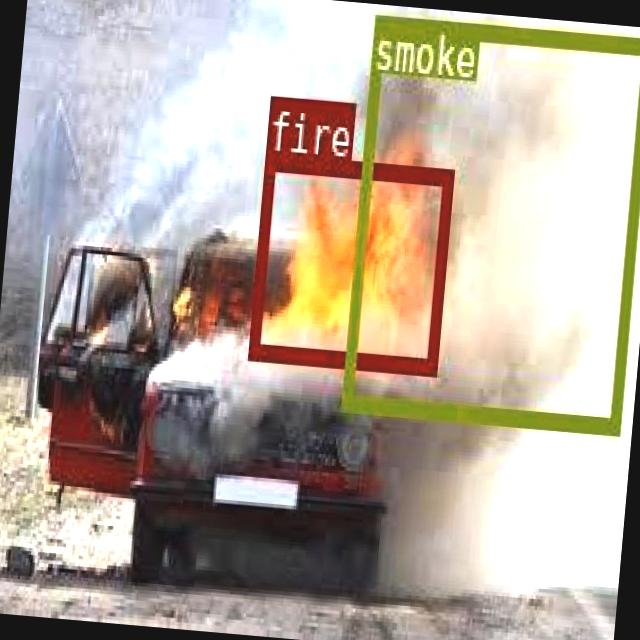fire: (248, 150, 452, 371)
smoke: (340, 13, 640, 429)
